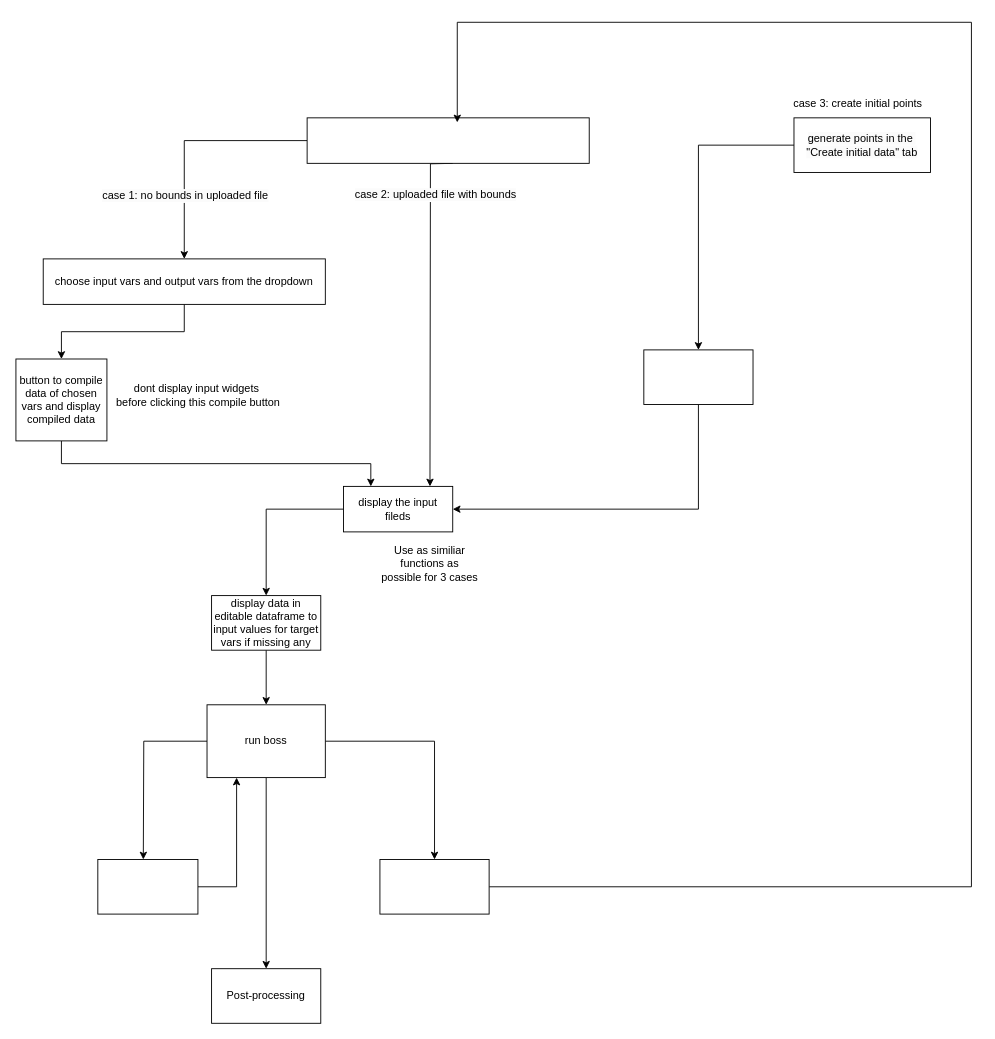
The diagram is 995 pixels wide and 1039 high, and some of its shapes have lost their labels. The box of each missing label's shape, as (x1, y1, x2, y2) in pixels:
download file with new acq and give y value later: (379, 859, 489, 914)
give y value for the new acq: (97, 859, 198, 914)
switch to the Run BOSS tab: (643, 349, 753, 404)
upload a file: (306, 117, 589, 163)
